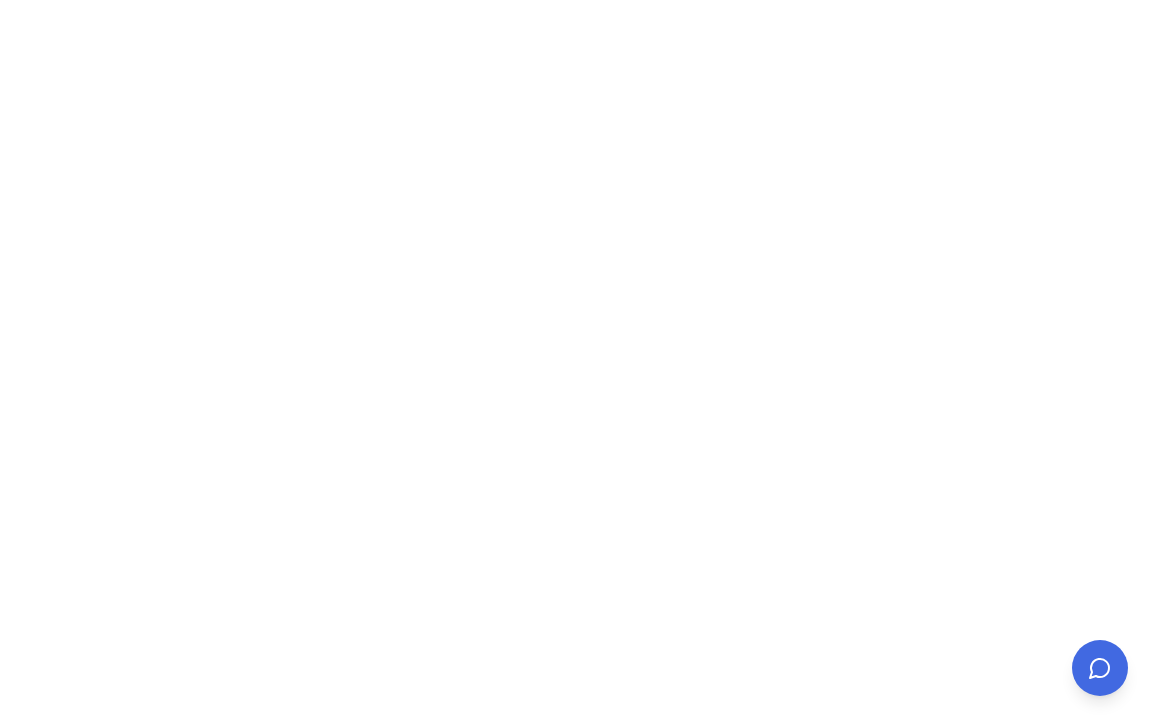
Test: E2E: Chatbot Component › opens chat window when button is clicked
What coordinates should you click on to do the following:
click the button named "Open chat"
I would click on:
 (1100, 668)
Its box is [1072,640,1128,696].
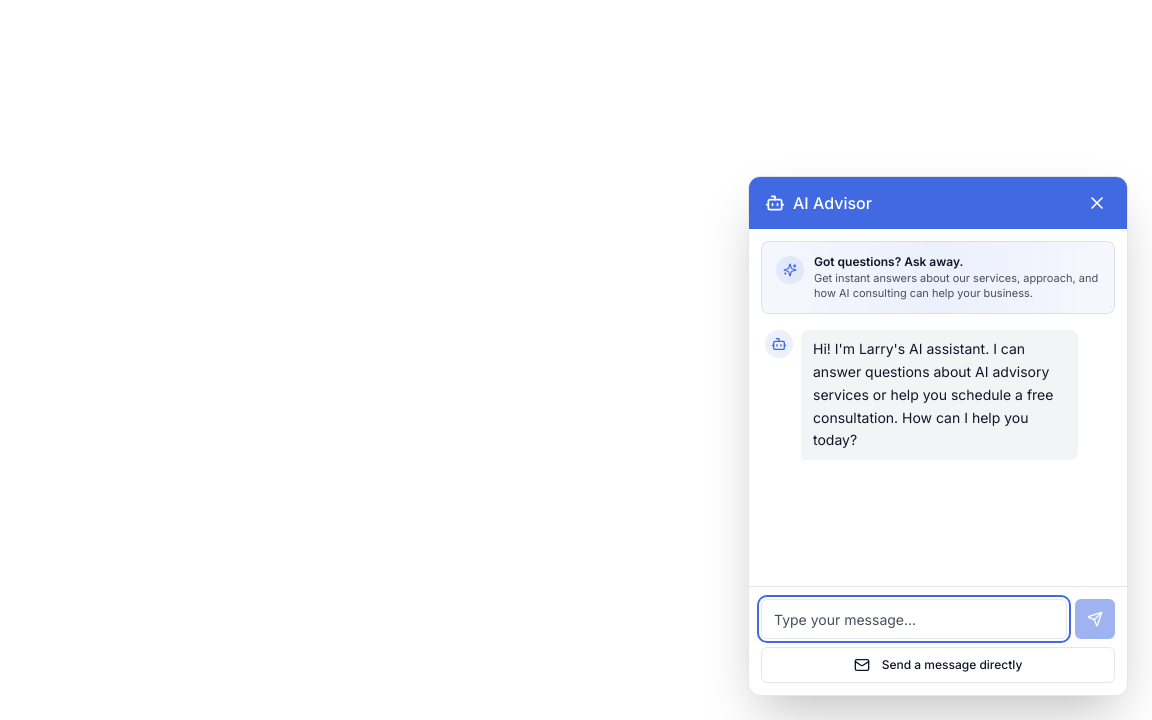
Expected: the dialog is shown, [748,176,1128,696]
Expected: the text "AI Advisor" is shown, [793,191,872,215]
Expected: the text "I'm Larry's AI assistant" is shown, [813,340,1054,448]
